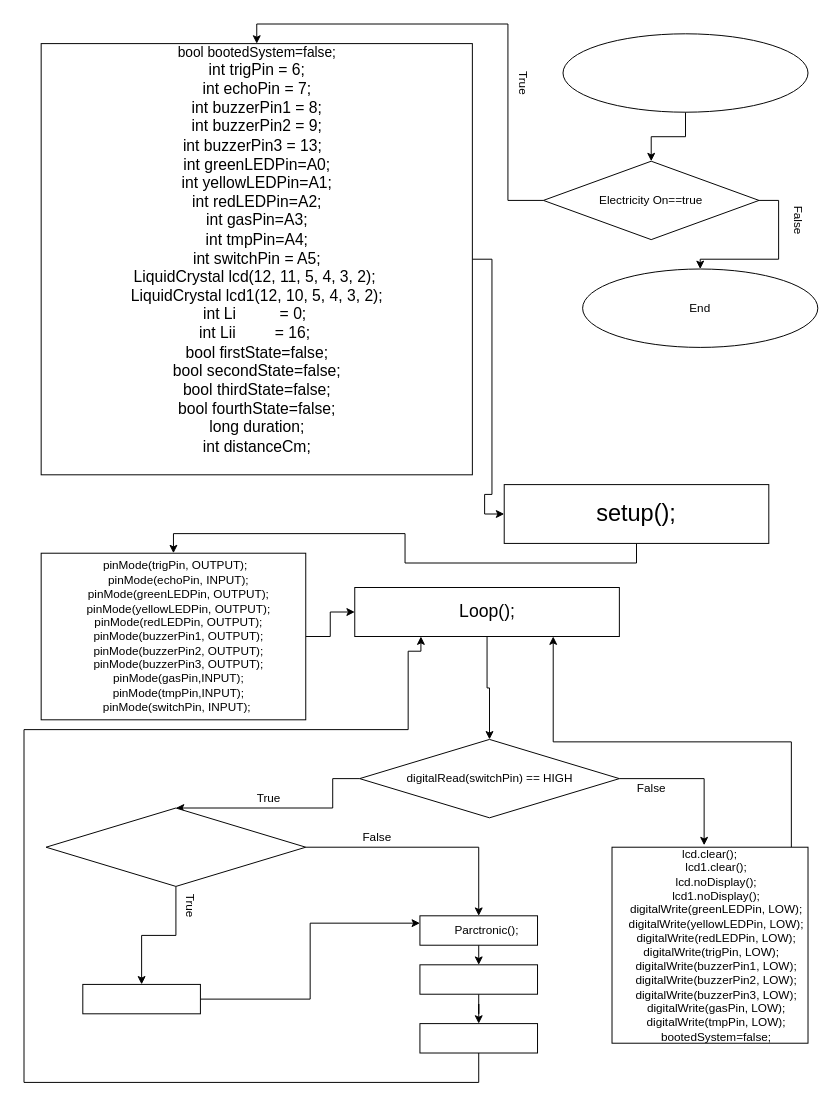
This 835x1107 diagram has some shape labels left out. Here are the shapes that lost their labels. From the top down, the centre of each, then its label:
point (685, 72): Begin
point (175, 846): bootedSystem==false
point (141, 998): BootSystem();
point (478, 979): GasDetecting();
point (478, 1038): Temperature();
